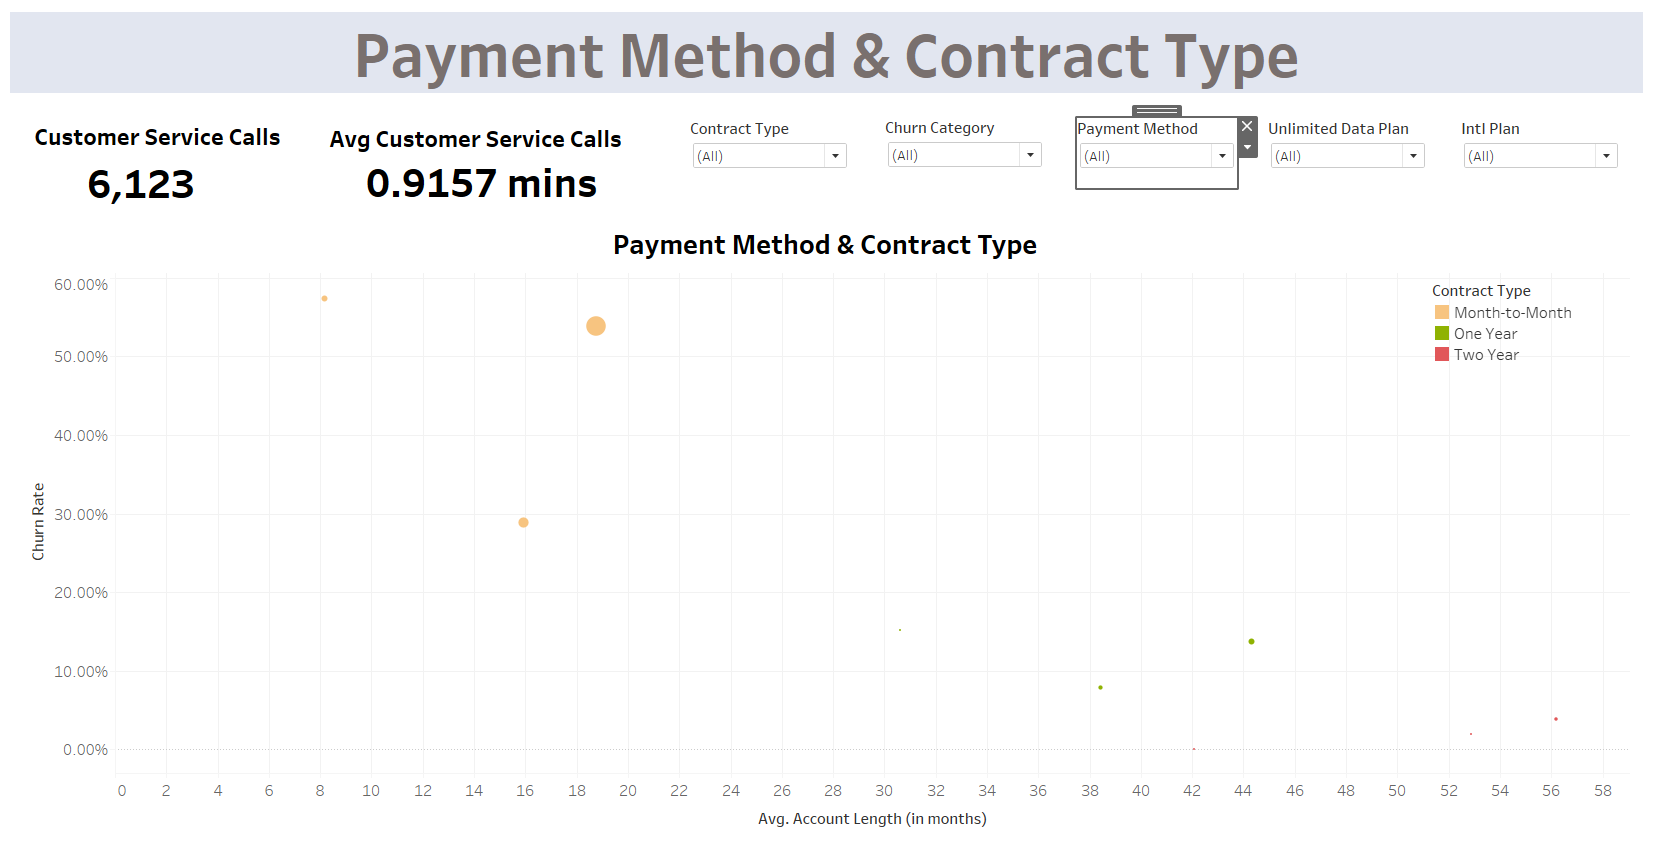

Layout of this report page (visuals, bound fields, positions):
{"tool":"tableau","page":{"name":"Payment Method & Contract Type  ","canvas":[1000,1000],"units":"permille","ordinal":3},"visuals":[{"type":"title","box":[4.8,9.4,990.3,104.6]},{"type":"filter","title":"Sheet 24","param":"[federated.1df3qus1ghblhc1dpikp010hw947].[none:Churn Category:nk]","box":[535.3,137.5,96.6,99.9]},{"type":"filter","title":"Sheet 24","param":"[federated.1df3qus1ghblhc1dpikp010hw947].[none:Contract Type:nk]","box":[417.6,138.7,96.6,79.9]},{"type":"filter","title":"Sheet 24","param":"[federated.1df3qus1ghblhc1dpikp010hw947].[none:Payment Method:nk]","box":[651.2,138.7,96.6,82.3]},{"type":"filter","title":"Sheet 24","param":"[federated.1df3qus1ghblhc1dpikp010hw947].[none:Unlimited Data Plan:nk]","box":[766.5,138.7,96.6,94]},{"type":"filter","title":"Sheet 24","param":"[federated.1df3qus1ghblhc1dpikp010hw947].[none:Intl Plan:nk]","box":[882.9,138.7,96.6,95.2]},{"type":"text","box":[19.9,141,152.7,37.6]},{"type":"text","box":[198,143.4,181.1,37.6]},{"type":"worksheet","title":"Avg Customer Service Calls","mark":"Automatic","box":[219.7,181,151.5,103.4]},{"type":"worksheet","title":"Customer Service Calls","mark":"Automatic","box":[48.9,182.1,105,87]},{"type":"worksheet","title":"Payment Method & Contract Type","mark":"Automatic","rows":["Calculation_1407656418300891140"],"cols":["Account Length (in months)"],"box":[13.3,259.7,971.6,722.7]},{"type":"worksheet","title":"Sheet 24","mark":"Automatic","box":[30.8,300.8,2.4,10.6]},{"type":"legend","title":"Payment Method & Contract Type","param":"[federated.1df3qus1ghblhc1dpikp010hw947].[none:Contract Type:nk]","box":[865.4,329,87.5,157.5]}]}

Visuals, with their boxes on the dashboard's canvas, which has no fixed pixel size, in thousandths of its width and height (x1, y1, x2, y2). These are canvas units, not pixel positions in the 1655x846 screenshot, which may show the page scaled, cropped or inside an application window:
title: region(5, 9, 995, 114)
"Sheet 24" filter: region(535, 138, 632, 237)
"Sheet 24" filter: region(418, 139, 514, 219)
"Sheet 24" filter: region(651, 139, 748, 221)
"Sheet 24" filter: region(766, 139, 863, 233)
"Sheet 24" filter: region(883, 139, 980, 234)
text: region(20, 141, 173, 179)
text: region(198, 143, 379, 181)
"Avg Customer Service Calls" worksheet: region(220, 181, 371, 284)
"Customer Service Calls" worksheet: region(49, 182, 154, 269)
"Payment Method & Contract Type" worksheet: region(13, 260, 985, 982)
"Sheet 24" worksheet: region(31, 301, 33, 311)
"Payment Method & Contract Type" legend: region(865, 329, 953, 486)
